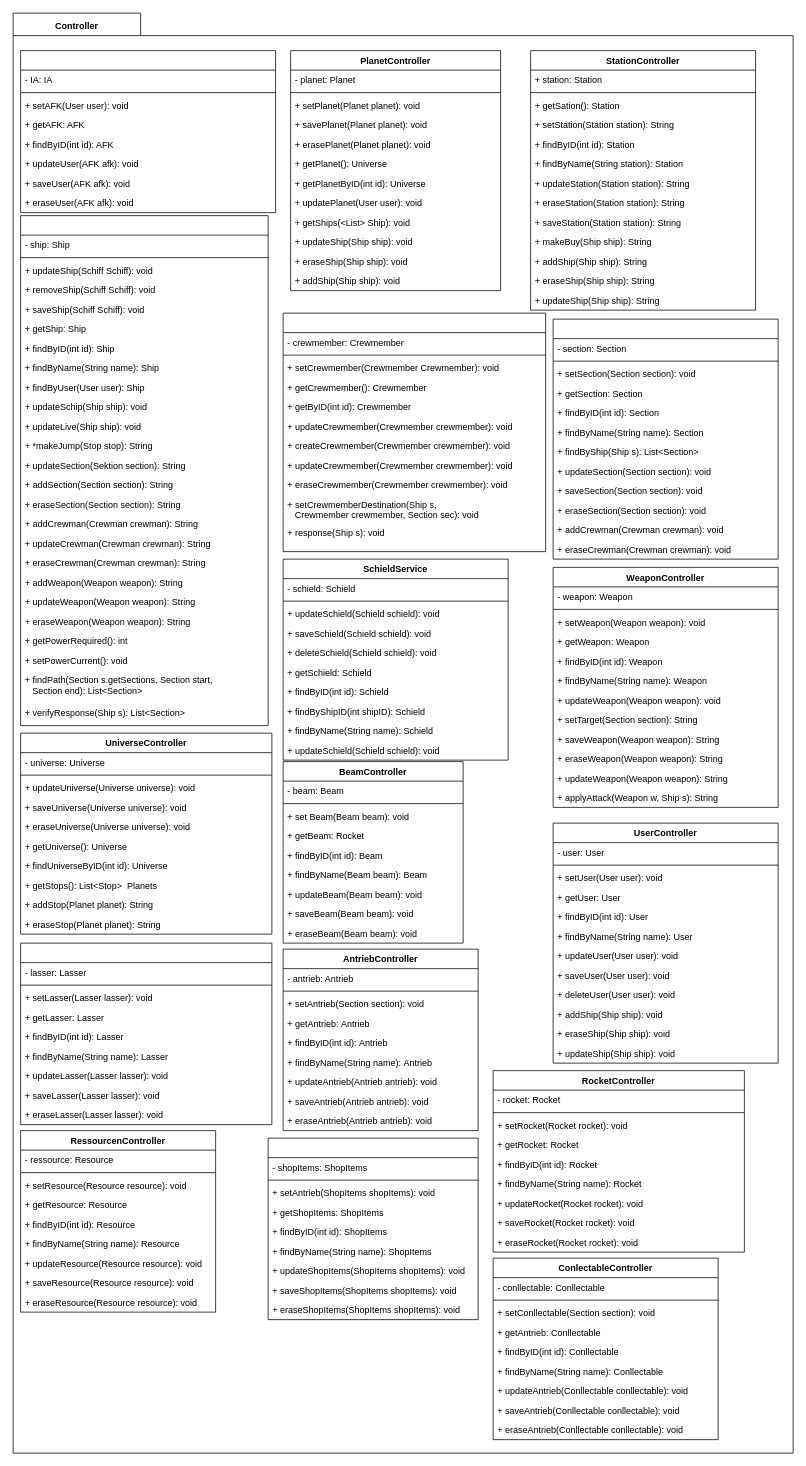
Some shapes in this 806 by 1466 pixel diagram are drawn without their labels. Each missing label, with the box of its shape:
CrewmemberController: (282, 312, 546, 552)
IAController: (20, 50, 276, 213)
LasserController: (20, 942, 272, 1125)
SectionController: (552, 318, 778, 559)
ShipController: (20, 215, 268, 726)
ShopItemsController: (267, 1137, 478, 1320)
